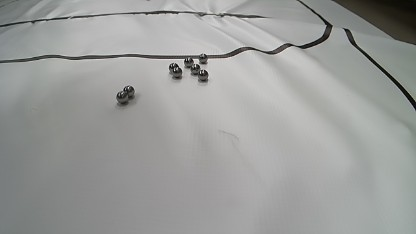ironball: (116, 90, 129, 103), (197, 69, 208, 81), (123, 85, 134, 97), (172, 66, 182, 78), (190, 63, 200, 74), (184, 57, 194, 67), (198, 53, 207, 63), (169, 62, 178, 72)
